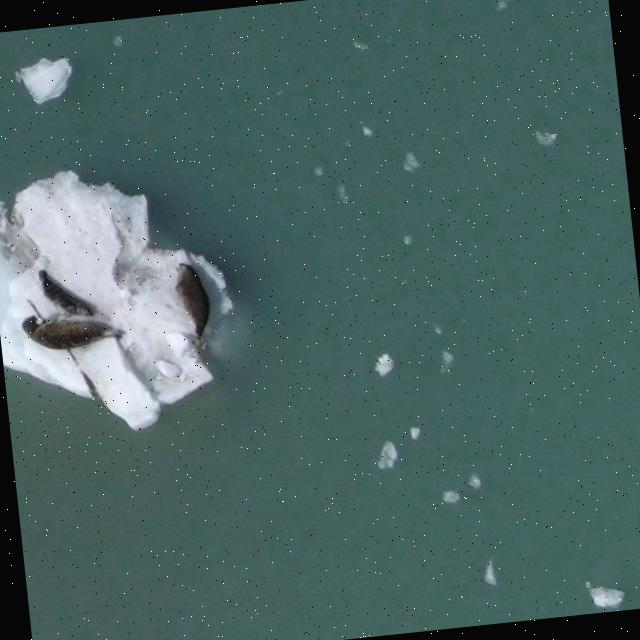seal: (26, 266, 99, 331), (17, 314, 126, 356), (171, 258, 213, 353)
